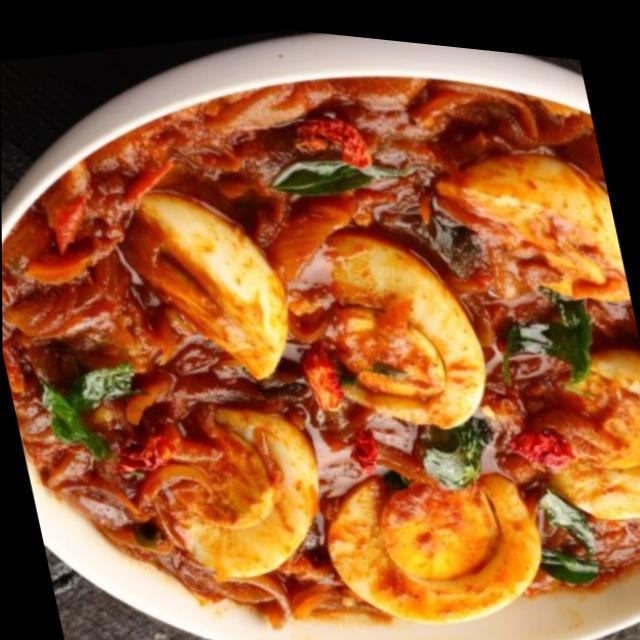EGG: (0, 30, 640, 640)
